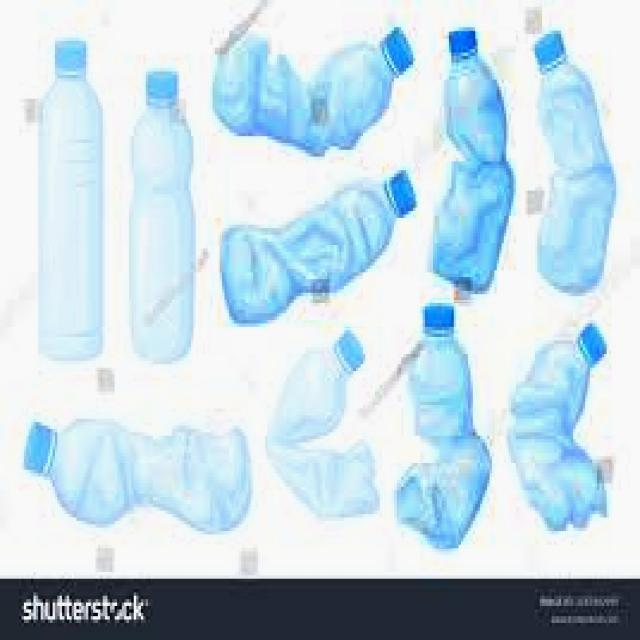BIODEGRADABLE: (10, 387, 262, 557), (218, 166, 417, 328), (207, 13, 416, 163), (35, 24, 115, 370), (527, 24, 618, 302), (121, 60, 200, 378), (397, 302, 495, 549), (433, 31, 518, 302), (268, 328, 384, 524), (508, 320, 612, 534)
